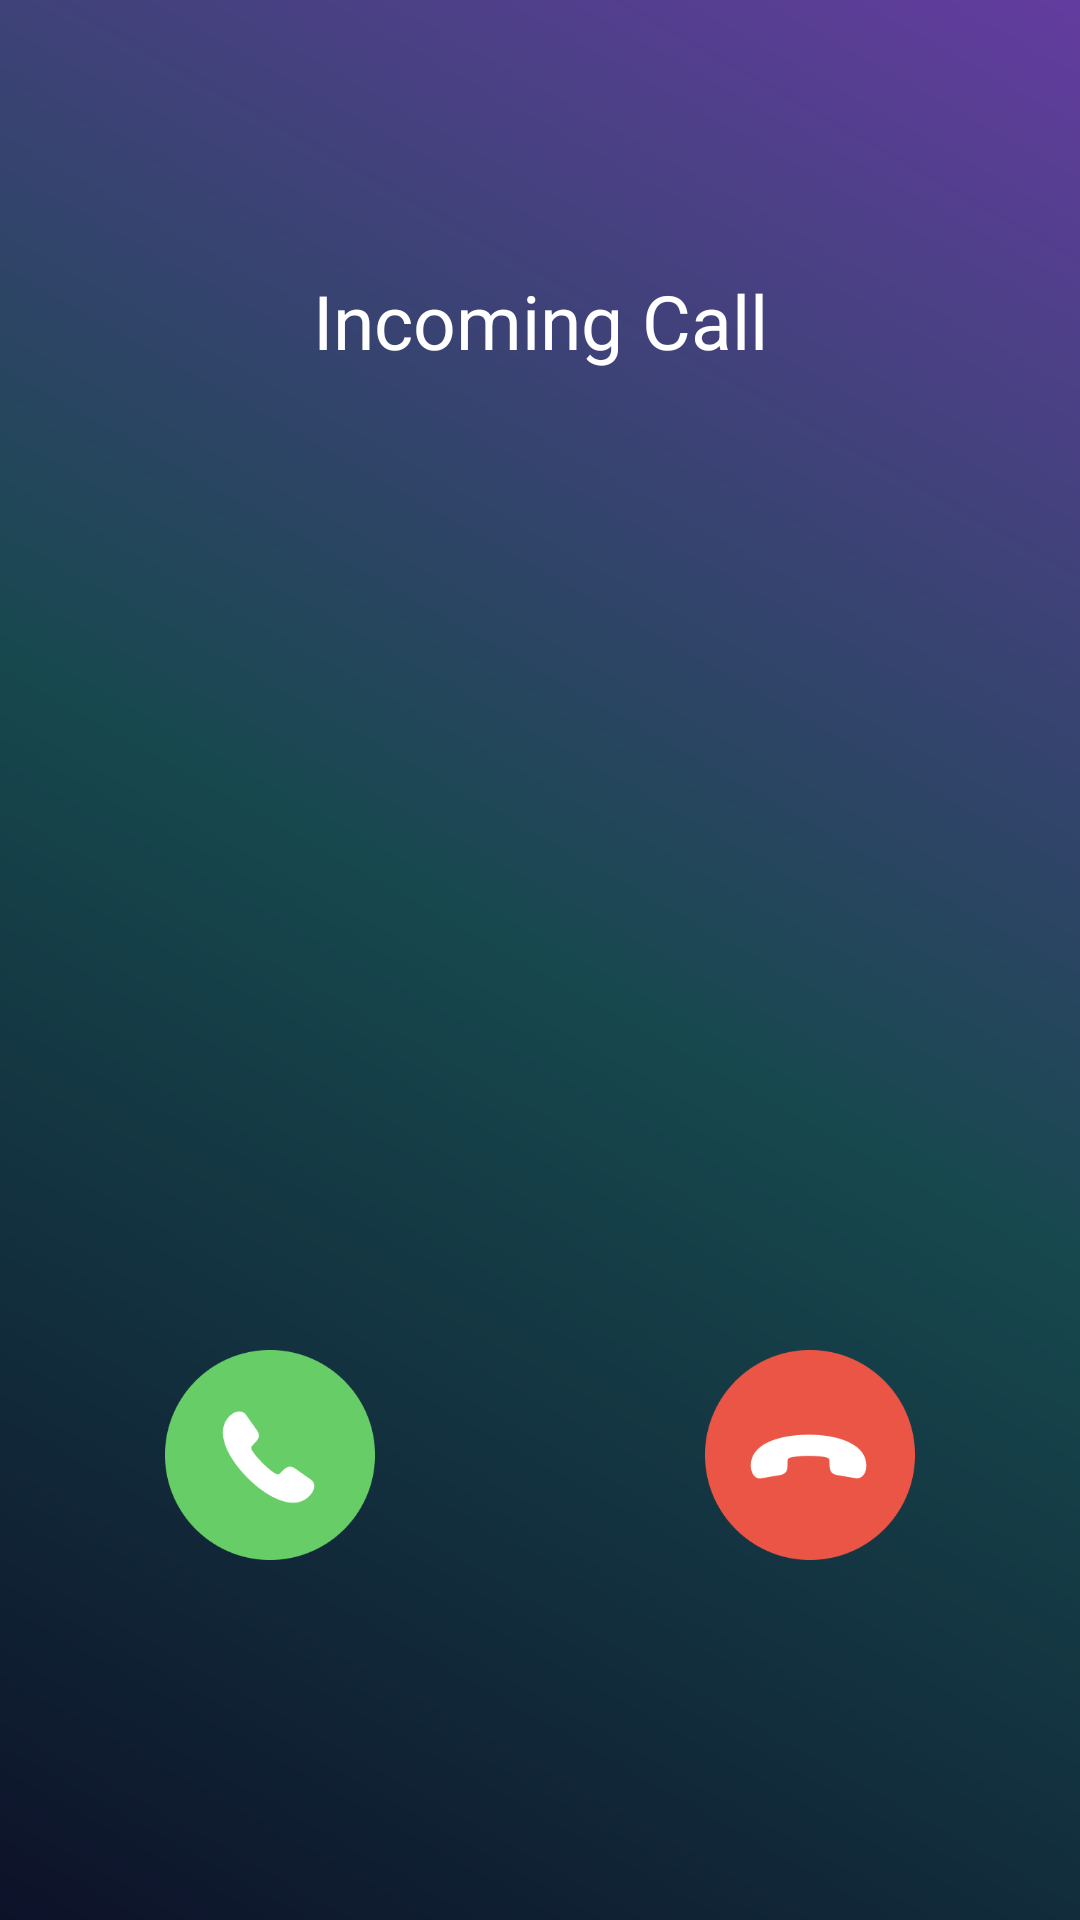

Where to tap for icons on this 1080 × 1920 app screen, as (x=x, y=y):
accept: (x=270, y=1455)
decline: (x=810, y=1455)
